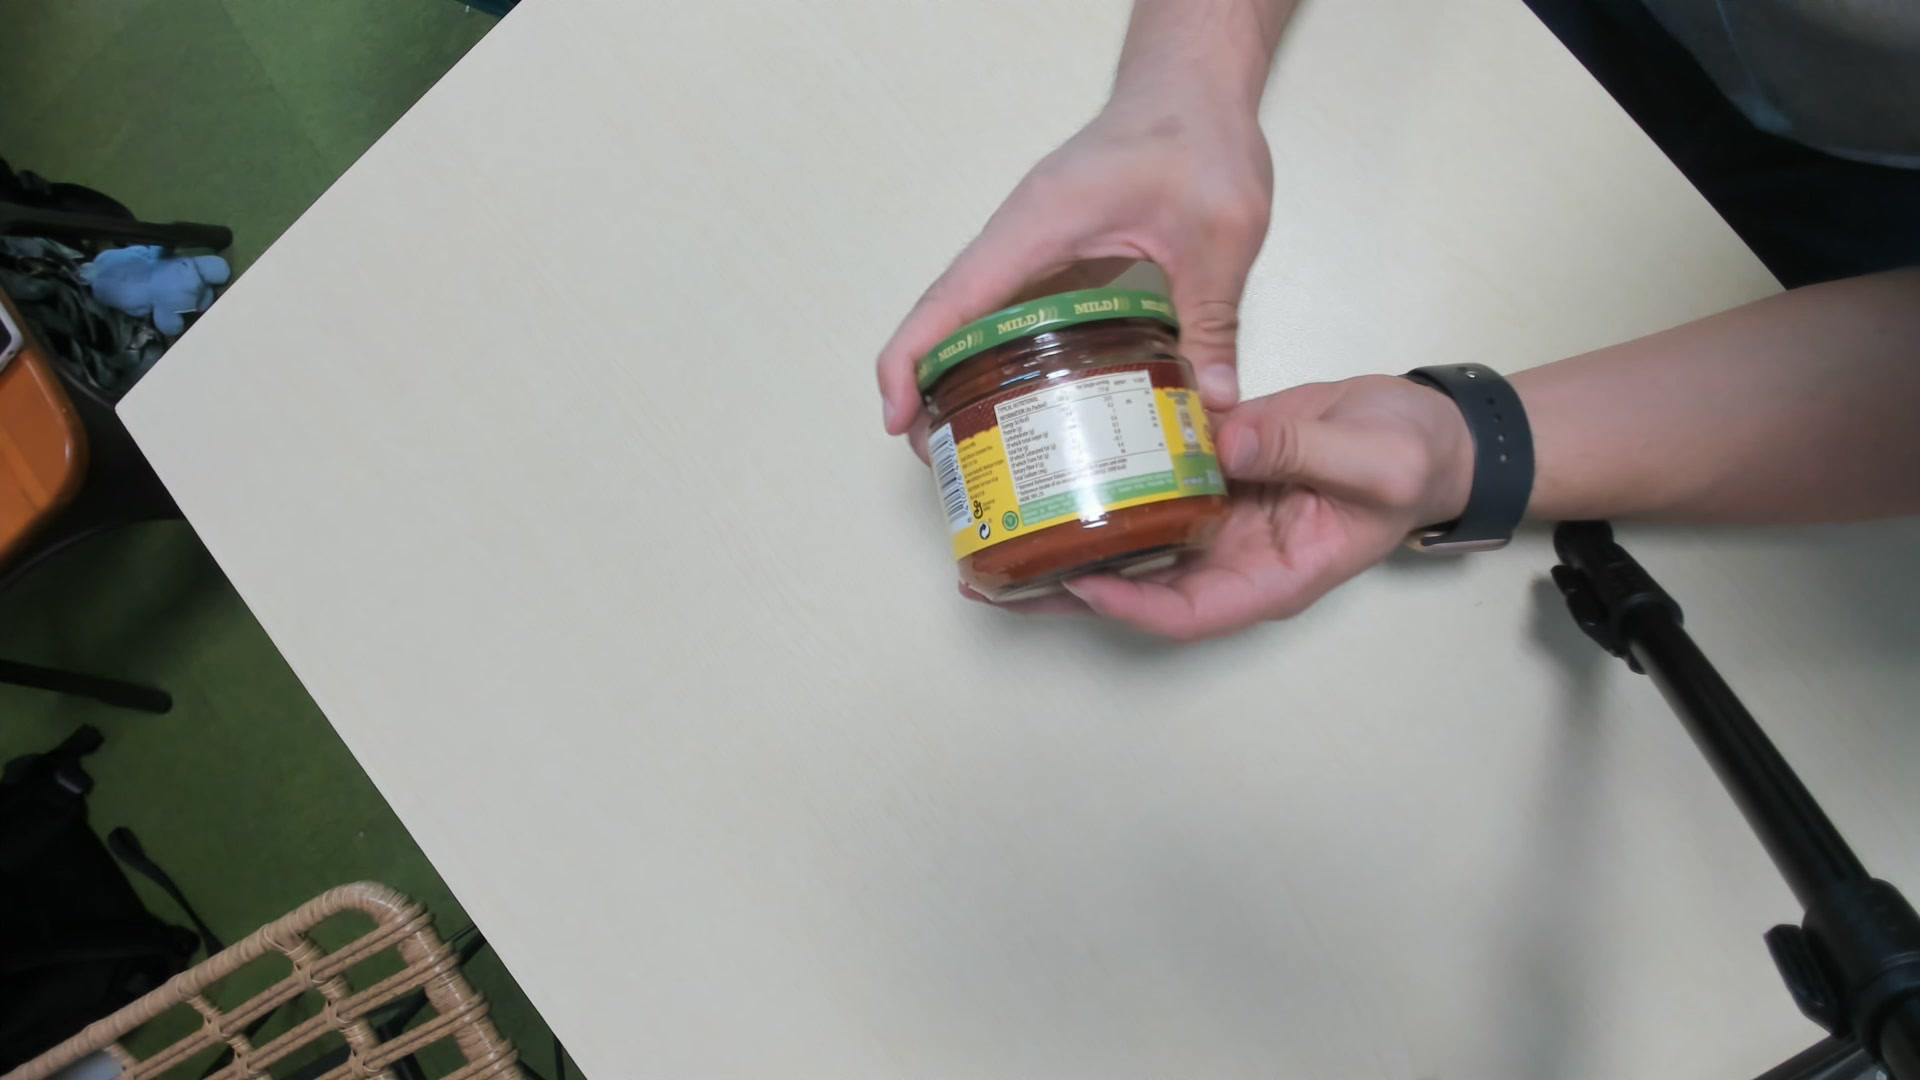OtherSauceDressing_300-399g_NonHalal_NonHealthy: (906, 294, 1234, 600)
